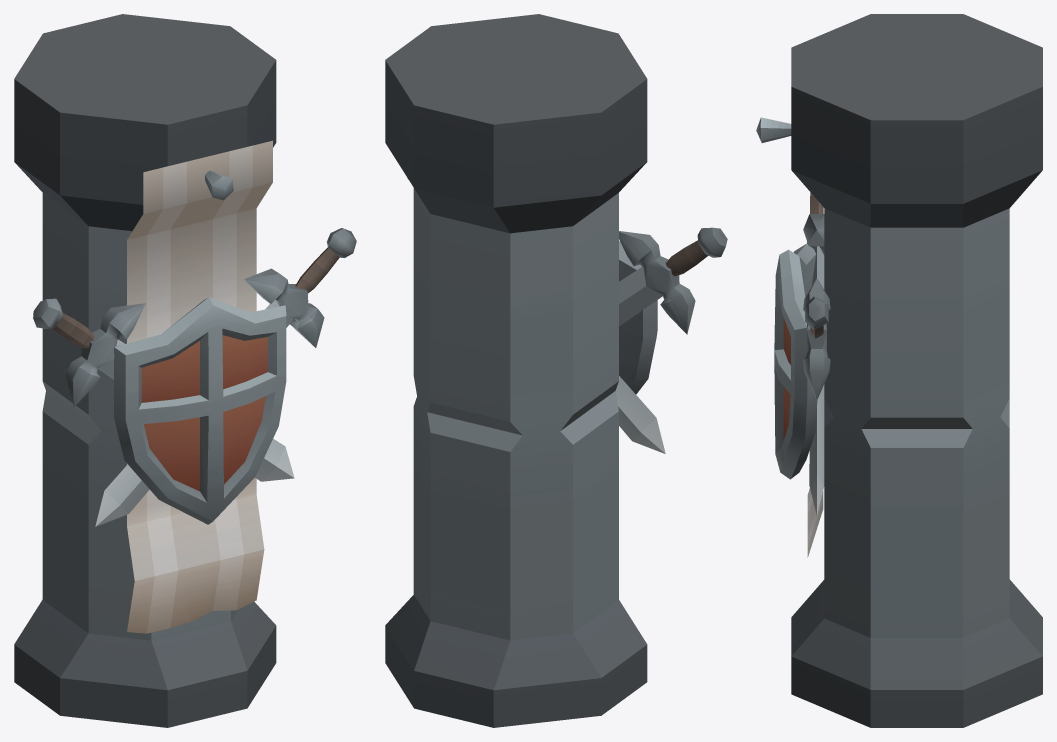
Rendered from pillar_decorated.glb.
The picture shows the model from 3 angles, left to right: view 1: azimuth 30°, elevation 25°; view 2: azimuth 150°, elevation 25°; view 3: azimuth 270°, elevation 25°; orthographic projection.
Parts seen in each view (by area): view 1: pillar_decorated; view 2: pillar_decorated; view 3: pillar_decorated.
Part boxes in pixels (<box>): pillar_decorated: <box>14,14,356,727</box>; pillar_decorated: <box>385,14,727,727</box>; pillar_decorated: <box>756,14,1042,727</box>.
Bounding box in the file's own units: 2.23 × 4 × 1.71.
1 material, 1 textured.
